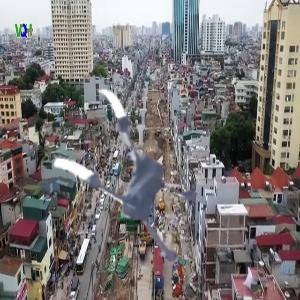drone: (32, 88, 221, 277)
